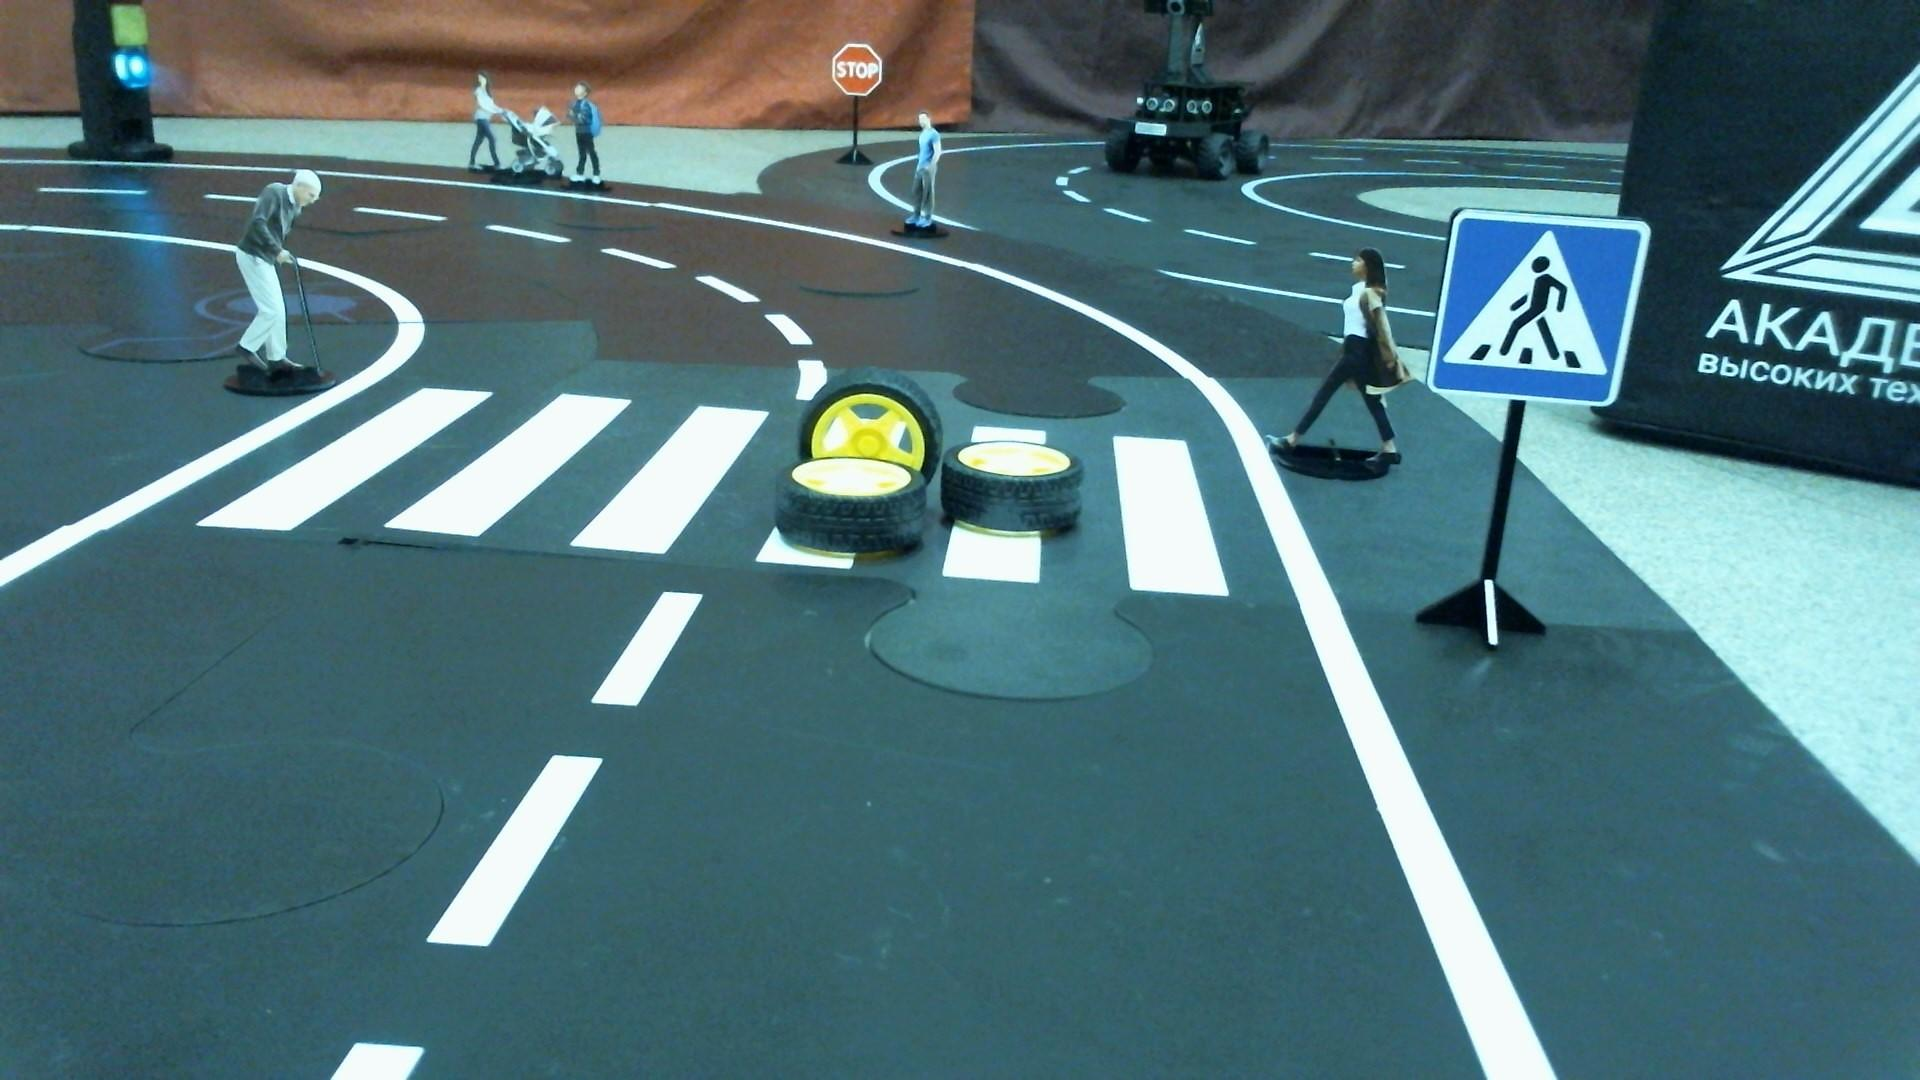barricade: (773, 362, 1088, 570)
crossing: (208, 377, 1272, 605)
person: (1263, 245, 1408, 485), (223, 160, 322, 392), (465, 65, 558, 182), (908, 112, 940, 237), (565, 82, 605, 180)
